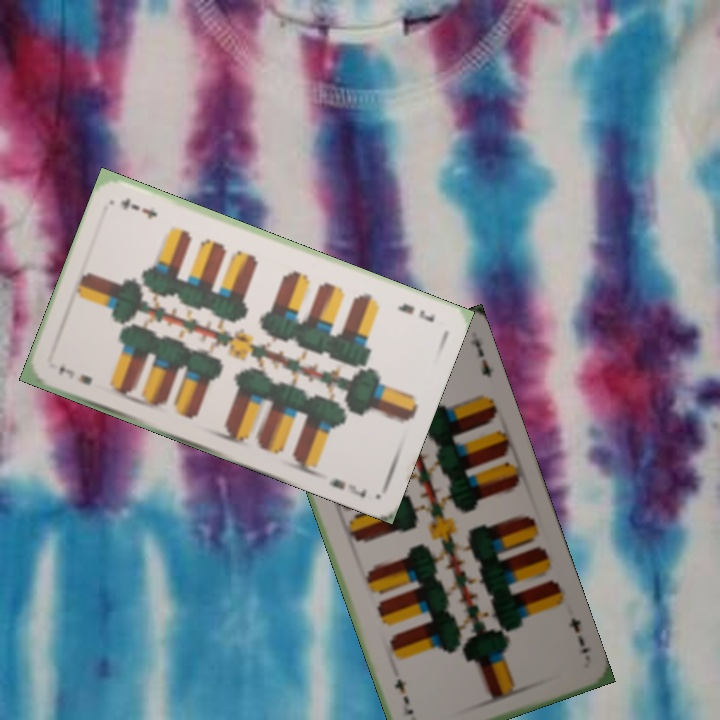E7: (564, 614, 593, 656), (393, 299, 437, 325), (54, 362, 95, 387)
